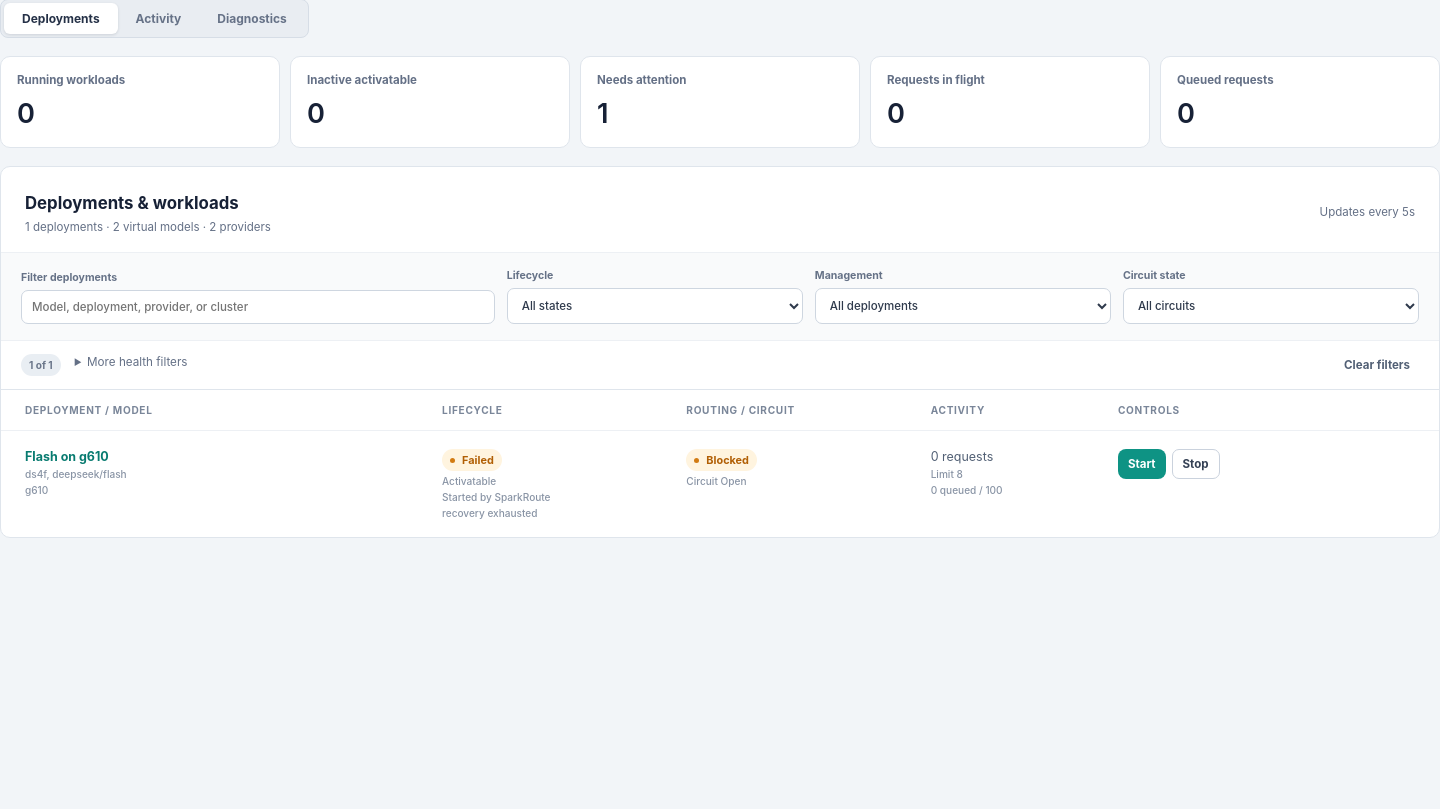
Test case: shows exhausted recovery and offers an explicit retry
expect the button "Start" is enabled: met, box [1118,449,1166,479]
What coordinates should you click on to do the following:
click the button "Flash on g610"
I would click on:
 (67, 456)
Its box is [25,449,109,464].
(page scrolled)
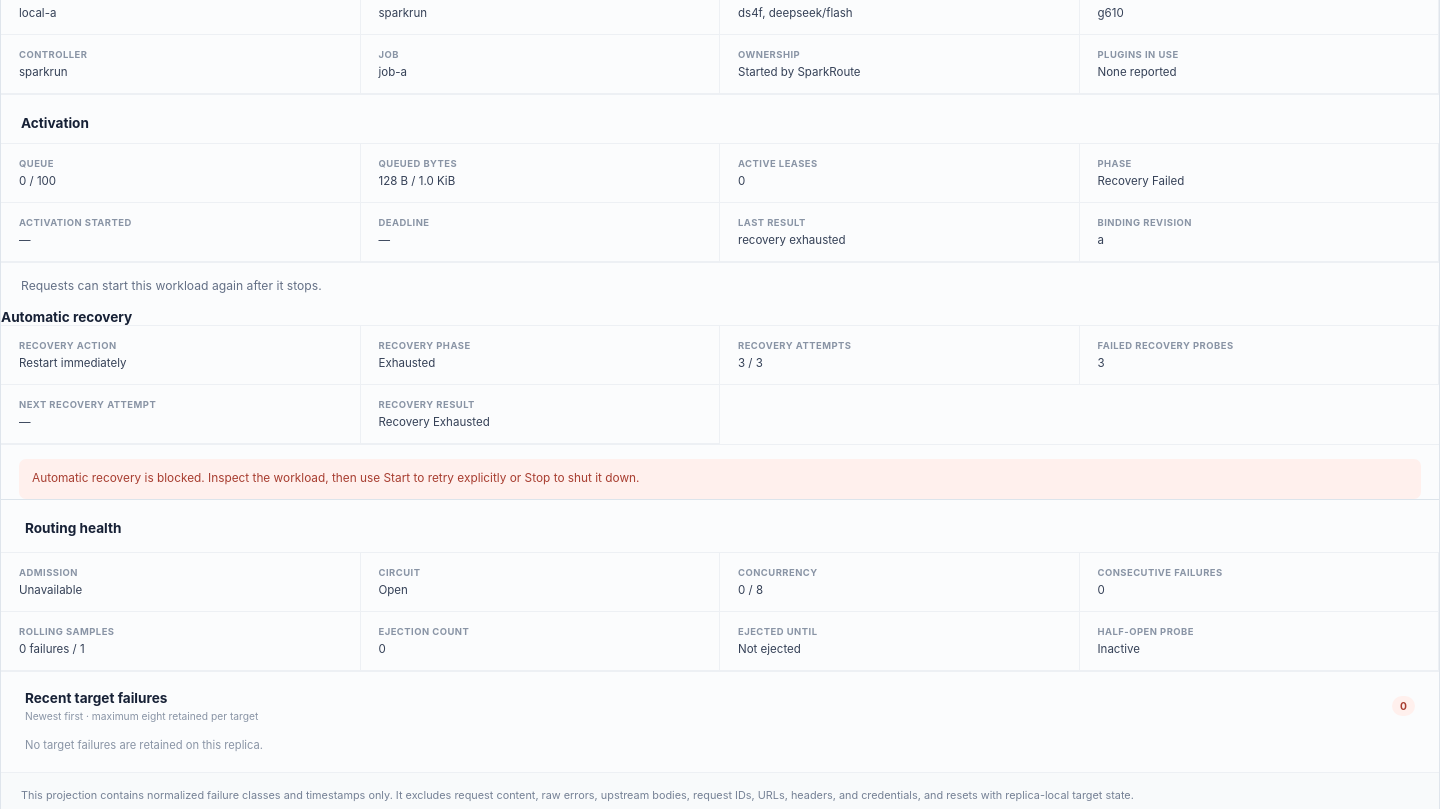
expect the element labelled "Automatic recovery" shows "3 / 3": met, box [738,356,763,370]
expect the element labelled "Automatic recovery" shows "Start to retry explicitly": met, box [32,471,640,485]
